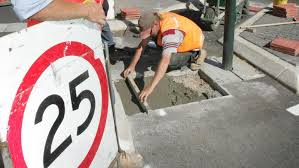sp25: (15, 58, 114, 162)
